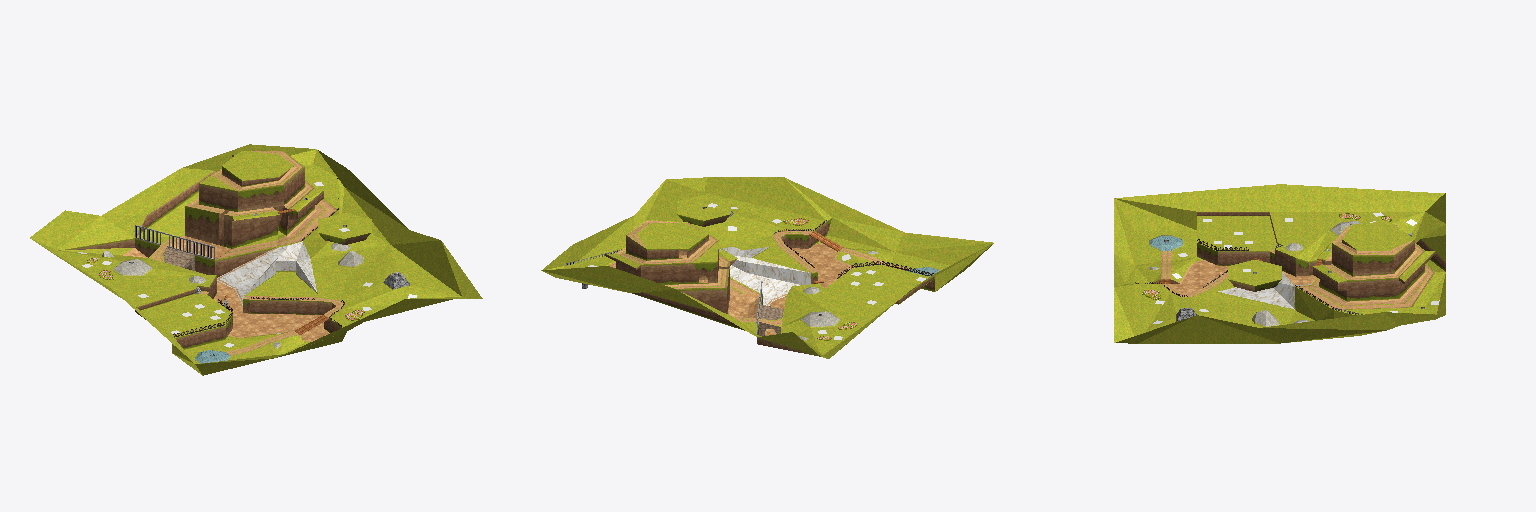
3 renders of one model, left to right at view 1: azimuth 30°, elevation 25°; view 2: azimuth 150°, elevation 25°; view 3: azimuth 270°, elevation 25°, orthographic.
Visible parts, largest first — view 1: r0; view 2: r0; view 3: r0.
Part boxes in pixels (bbox=[...]): r0: bbox=[30, 144, 482, 375]; r0: bbox=[541, 177, 993, 358]; r0: bbox=[1114, 184, 1445, 343].
Size of the model in its own units: 16 by 4.57 by 16.
Materials: 23 (22 with a texture image).